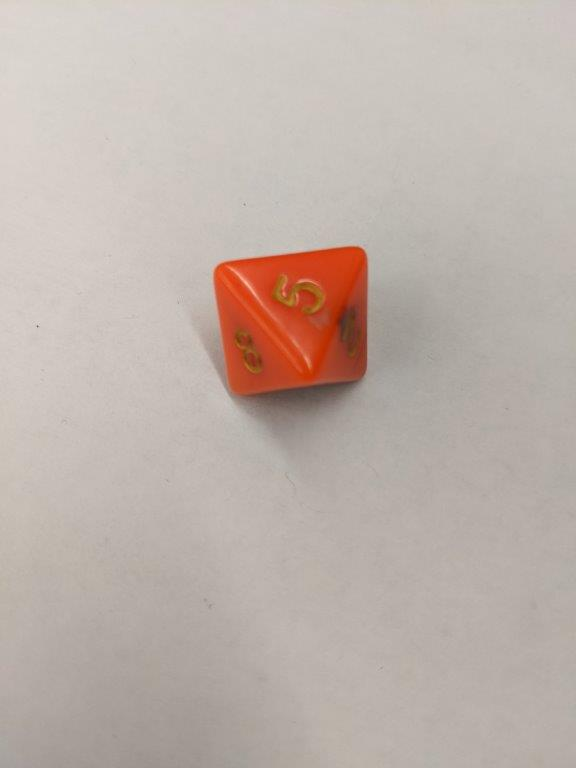d8-5: (212, 247, 370, 396)
